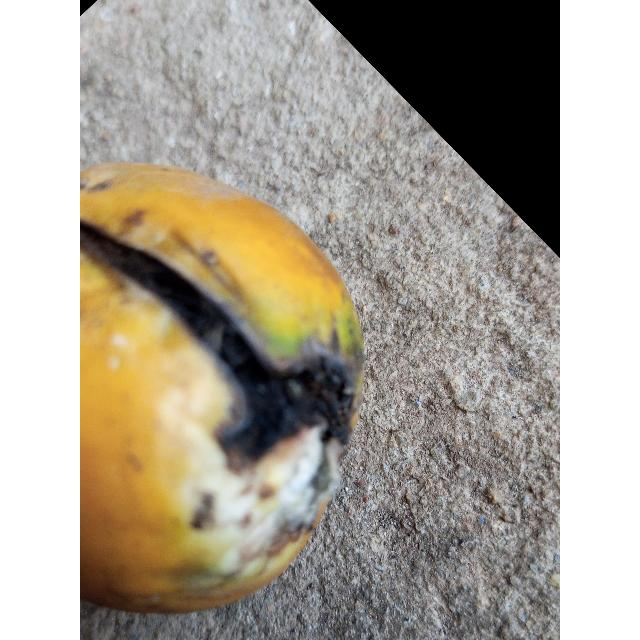damaged: (80, 164, 364, 612)
